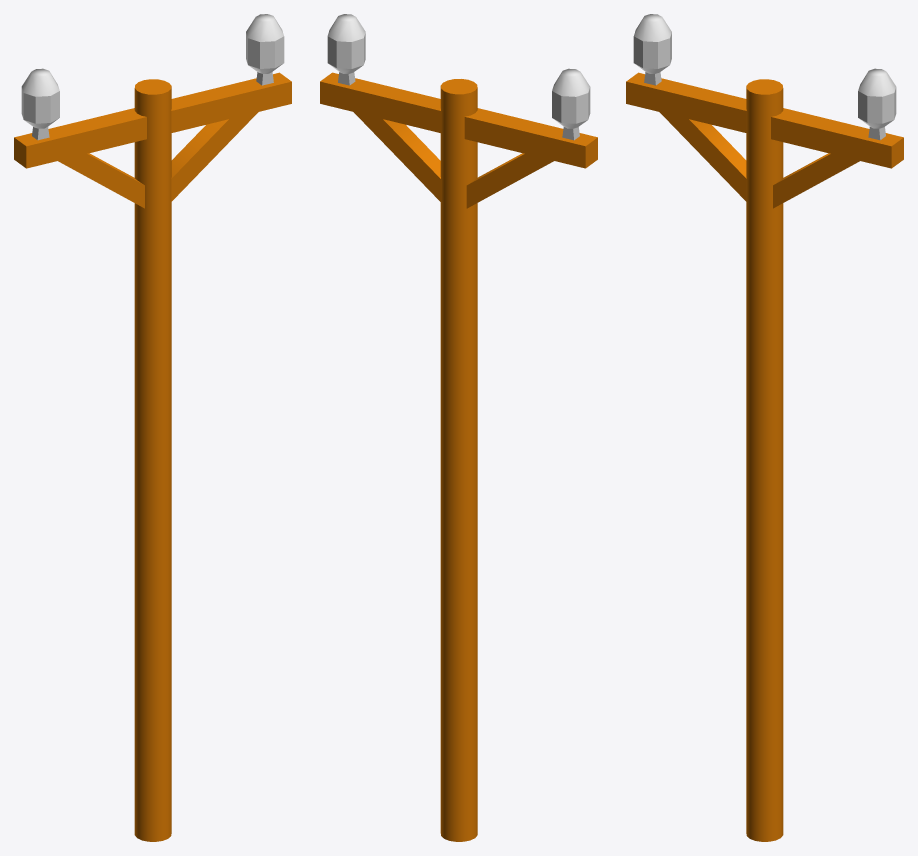
The model's file is poteauelectrique.fbx.
3 views of the same model, side by side, from view 1: azimuth 30°, elevation 25°; view 2: azimuth 150°, elevation 25°; view 3: azimuth 330°, elevation 25° (orthographic).
Parts seen in each view (by area): view 1: poteauelectrique; view 2: poteauelectrique; view 3: poteauelectrique.
Part boxes in pixels (<box>): poteauelectrique: <box>14,14,291,841</box>; poteauelectrique: <box>320,14,597,841</box>; poteauelectrique: <box>626,14,903,841</box>.
Bounding box in the file's own units: 654 × 1856 × 84.39.
